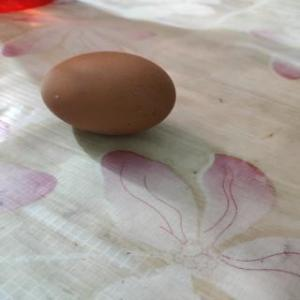egg: (39, 51, 179, 139)
